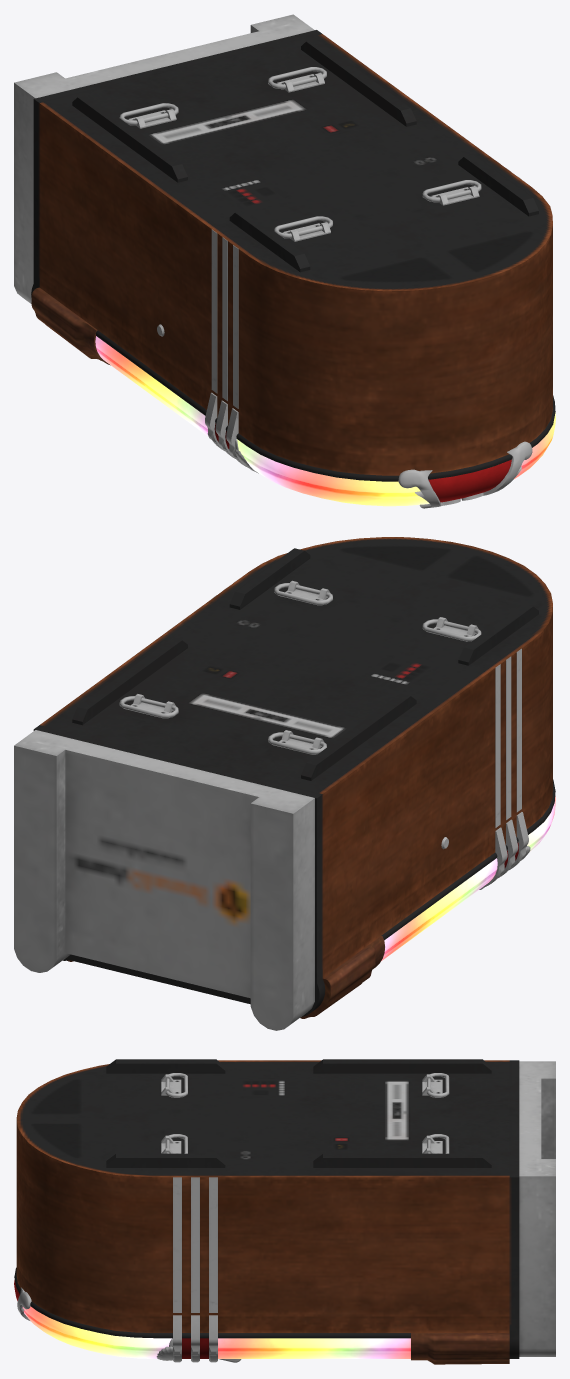
File: jukebox-188e71.glb
3 views of the same model, one above another, from view 1: azimuth 30°, elevation 25°; view 2: azimuth 150°, elevation 25°; view 3: azimuth 270°, elevation 25° (orthographic). The views are drawn at different scales.
Parts seen in each view (by area): view 1: PropMesh; view 2: PropMesh; view 3: PropMesh.
Part boxes in pixels (x1,y1,x2,y2): PropMesh: [14, 14, 555, 508]; PropMesh: [14, 537, 555, 1030]; PropMesh: [14, 1059, 555, 1364].
Bounding box in the file's own units: 2.66 × 2.2 × 4.92.
4 materials, 4 textured.
